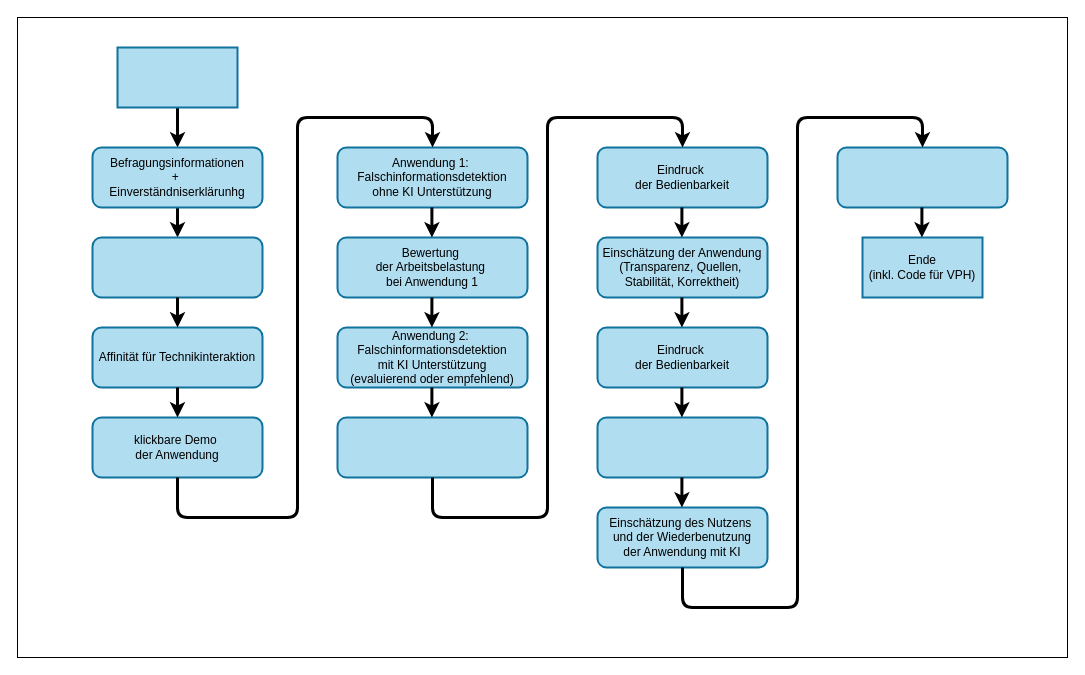
This 1085x675 diagram has some shape labels left out. The shapes that lost their labels are listed below. From the top down, each one's centre as x and y in pixels, then its label:
(177,77): Start
(922,177): Debriefing (mit Antwortgegenüberstellung) und Kommentarzeile
(177,267): demographische Daten + Sozial Media Nutzung
(432,447): Bewertung der Arbeitsbelastung bei Anwendung 2
(682,447): Anmutung der Anwendung mittels Gegensatzpaaren
